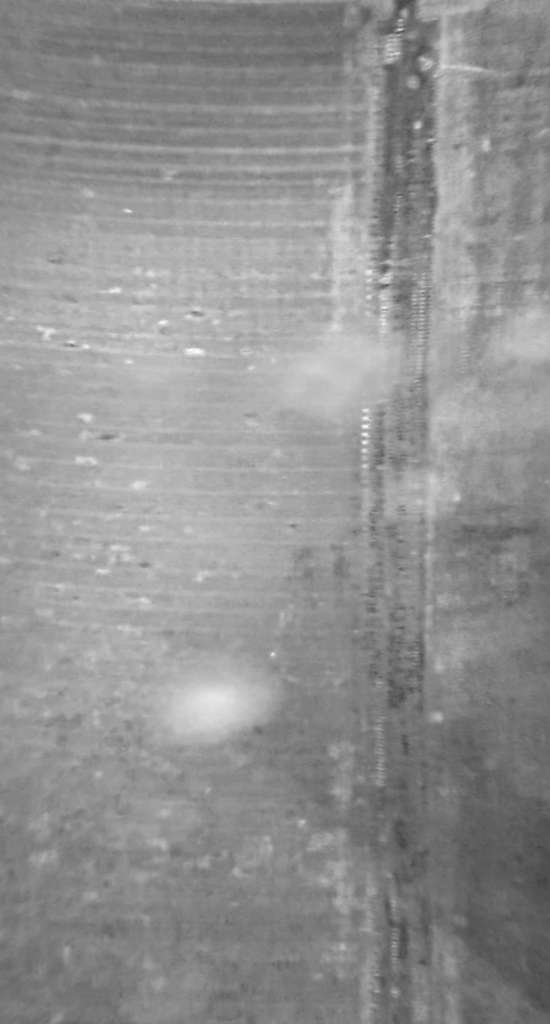splice: (352, 1, 441, 1024)
